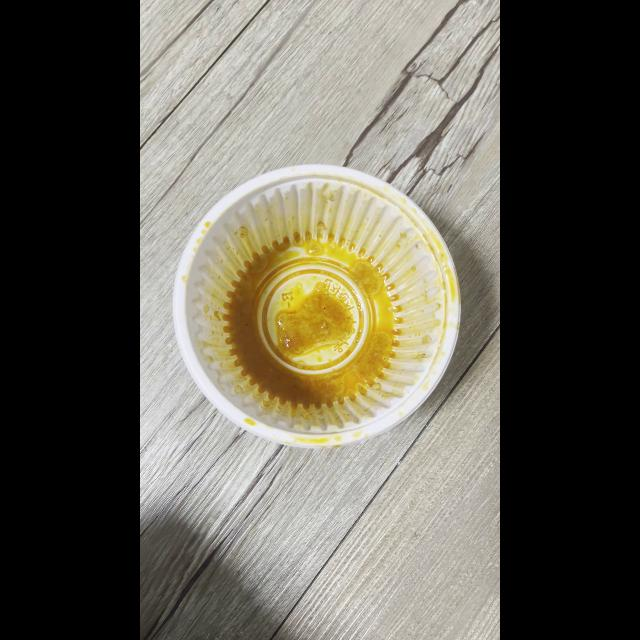dirty: (185, 172, 460, 452)
